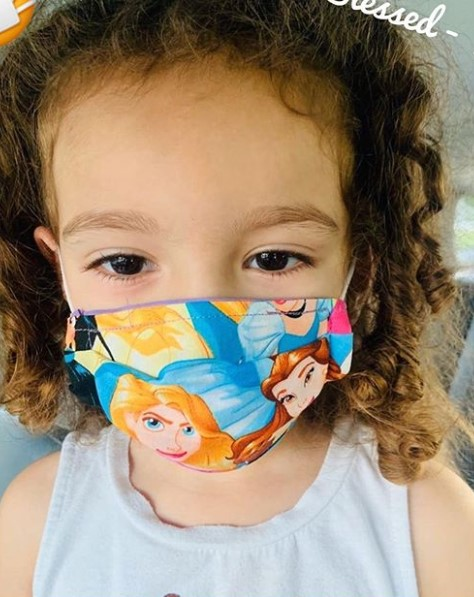face_with_mask: (24, 12, 402, 476)
